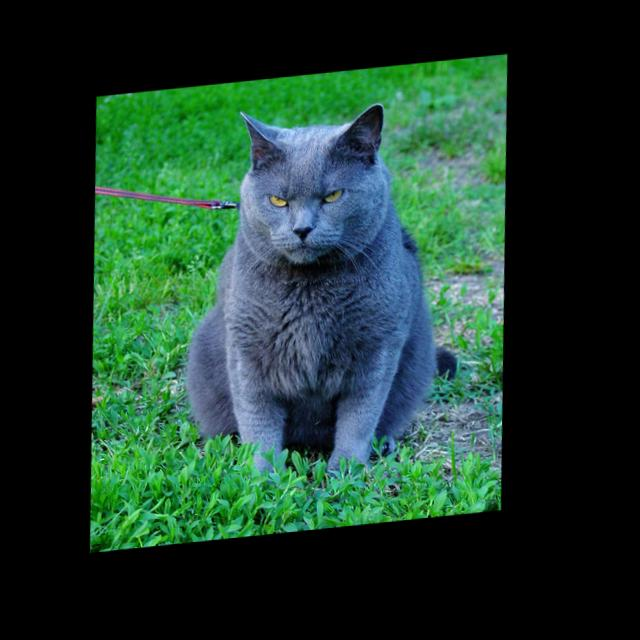animals: (236, 103, 386, 247)
